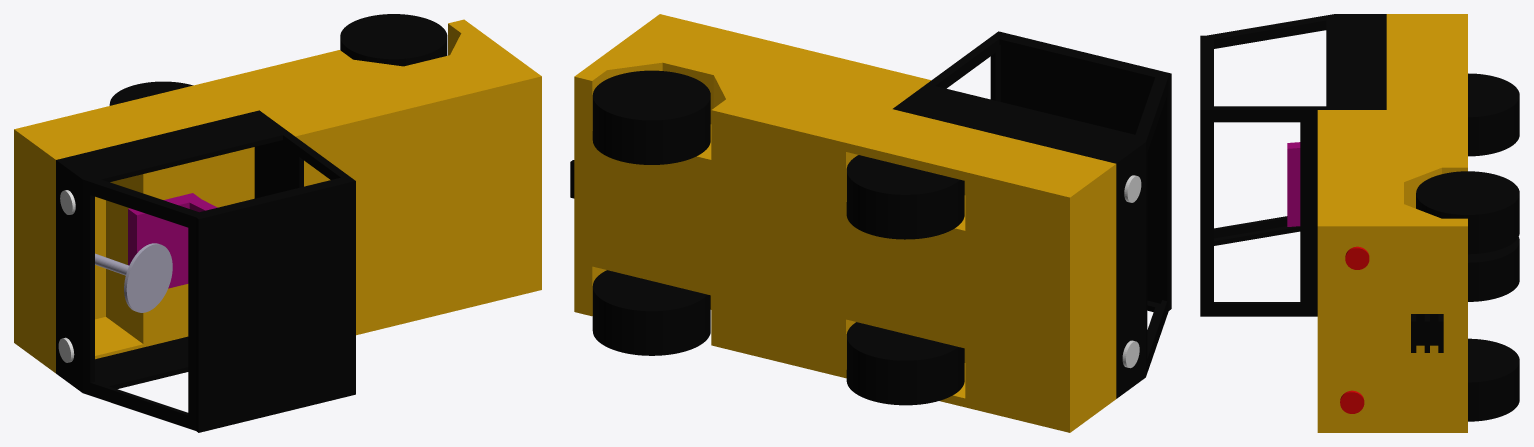
The model's file is tractor.glb.
3 renders of one model, left to right at view 1: azimuth 30°, elevation 25°; view 2: azimuth 150°, elevation 25°; view 3: azimuth 270°, elevation 25°, orthographic. The views are drawn at different scales.
Size of the model in its own units: 3035 by 1320 by 1850.
